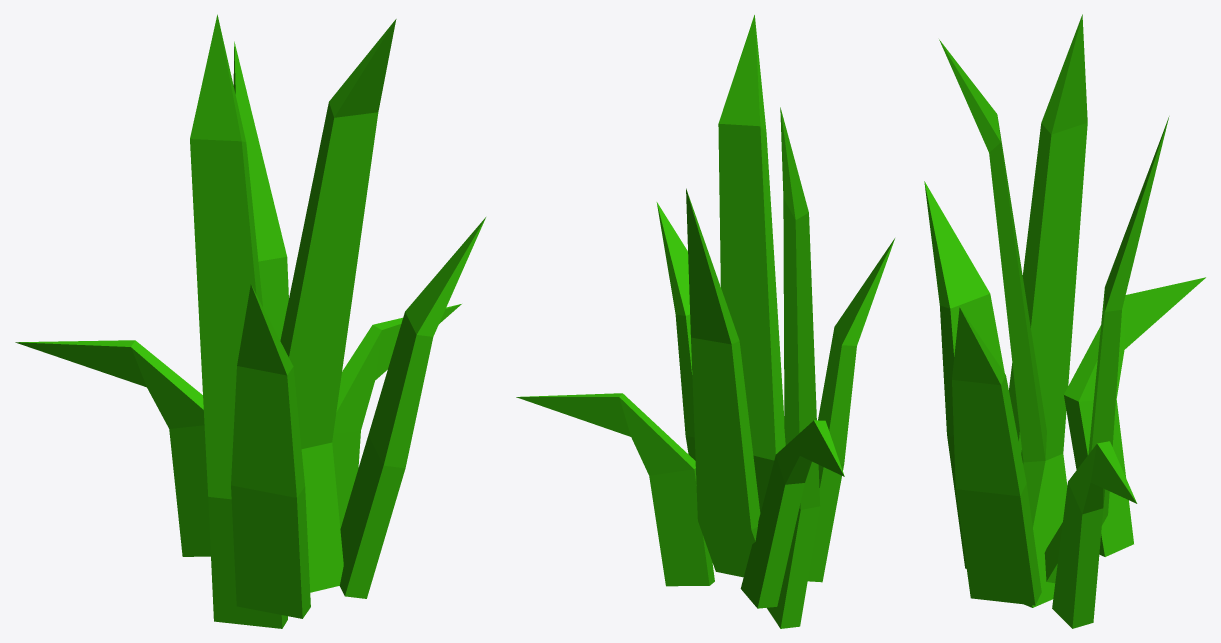
Rendered from Grass_2.fbx.
3 renders of one model, left to right at view 1: azimuth 30°, elevation 25°; view 2: azimuth 150°, elevation 25°; view 3: azimuth 270°, elevation 25°, orthographic. The views are drawn at different scales.
Parts seen in each view (by area): view 1: Grass Middle; view 2: Grass Middle; view 3: Grass Middle.
Part boxes in pixels (x1,y1,x2,y2): Grass Middle: (15,14,485,628); Grass Middle: (516,15,894,628); Grass Middle: (924,14,1205,628).
Size of the model in its own units: 27.79 by 40.13 by 17.21.
